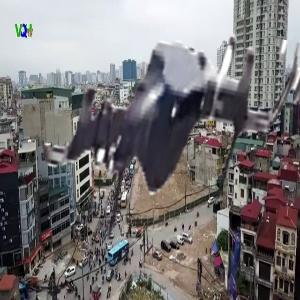drone: (26, 15, 291, 280)
